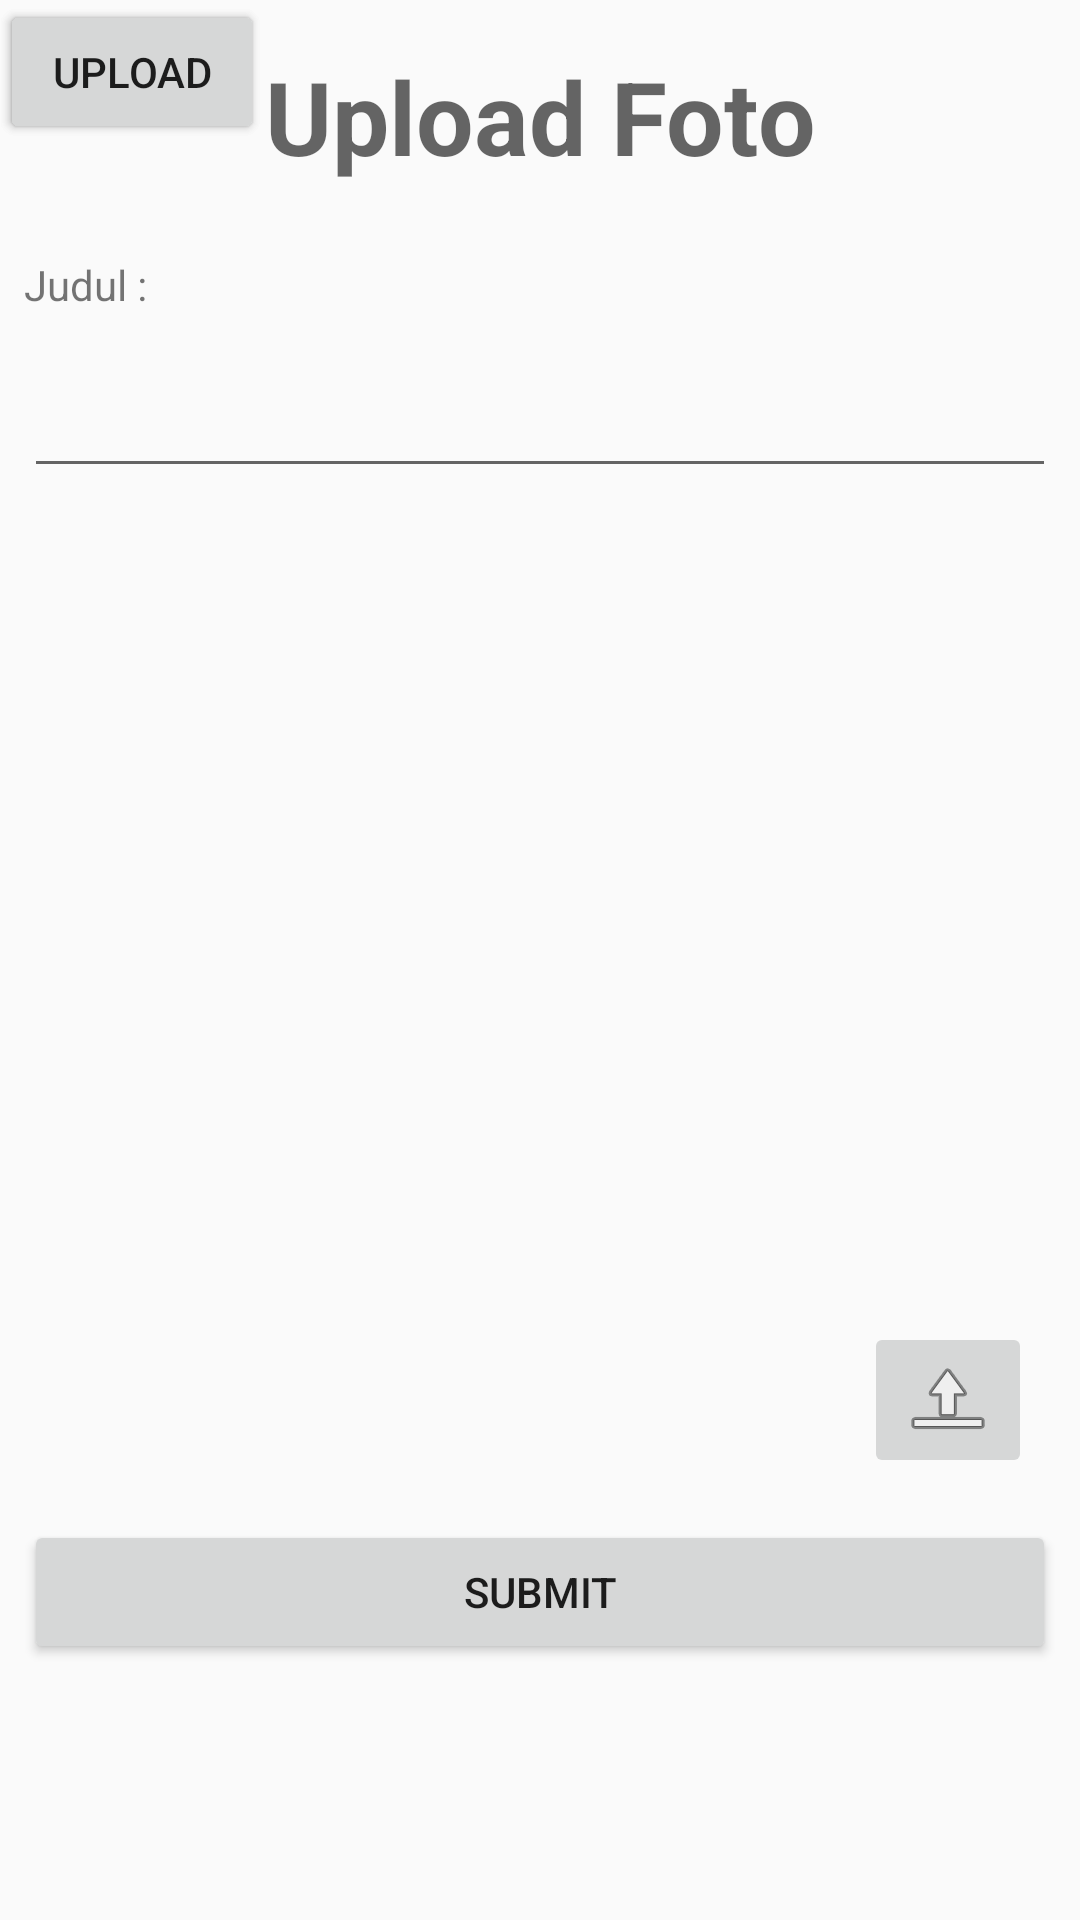

Where icons sit on this 1080*1920 app screen, as (x1, y1, x2, y2):
upload: (876, 1340, 1020, 1460)
